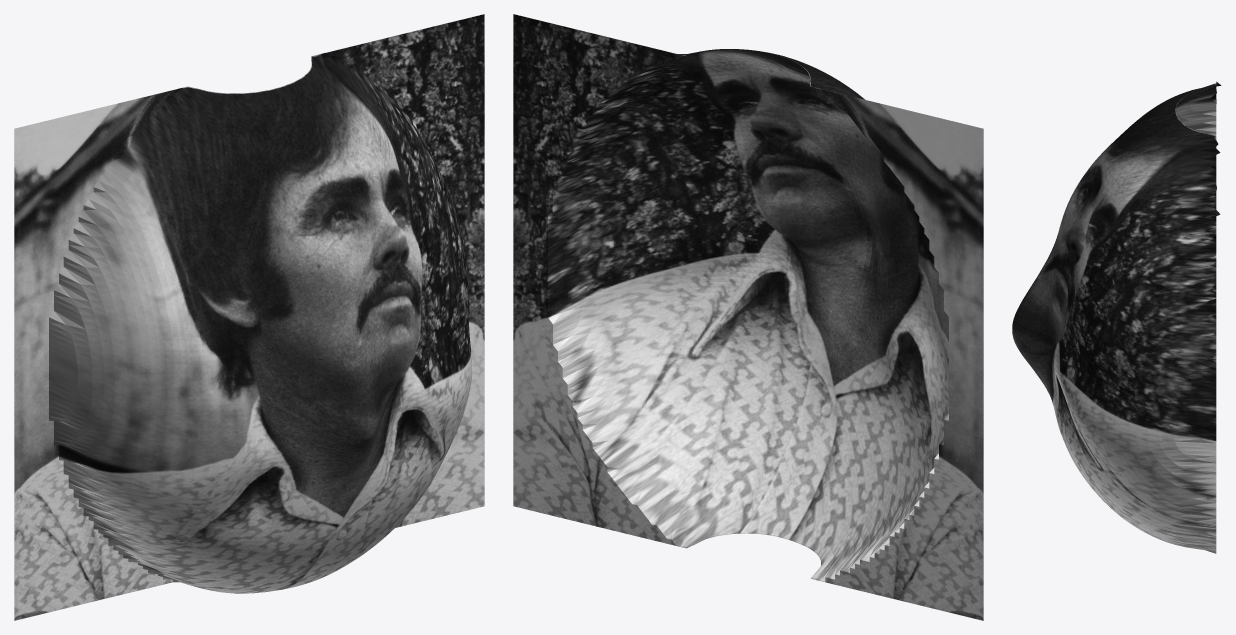
3 views of the same model, side by side, from view 1: azimuth 30°, elevation 25°; view 2: azimuth 150°, elevation 25°; view 3: azimuth 270°, elevation 25° (orthographic). The views are drawn at different scales.
Visible parts, largest first — view 1: face; view 2: face; view 3: face.
Boxes of the visible parts, x1,y1,x2,y2 form: face: (14, 14, 484, 620); face: (513, 14, 983, 620); face: (1012, 81, 1221, 553).
Bounding box in the file's own units: 2 × 2 × 0.9176.
1 material, 1 textured.
